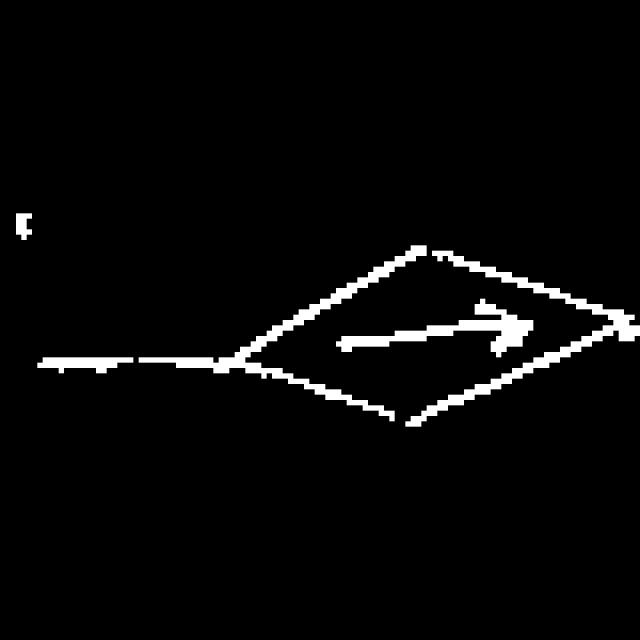dependant_current: (227, 236, 632, 440)
